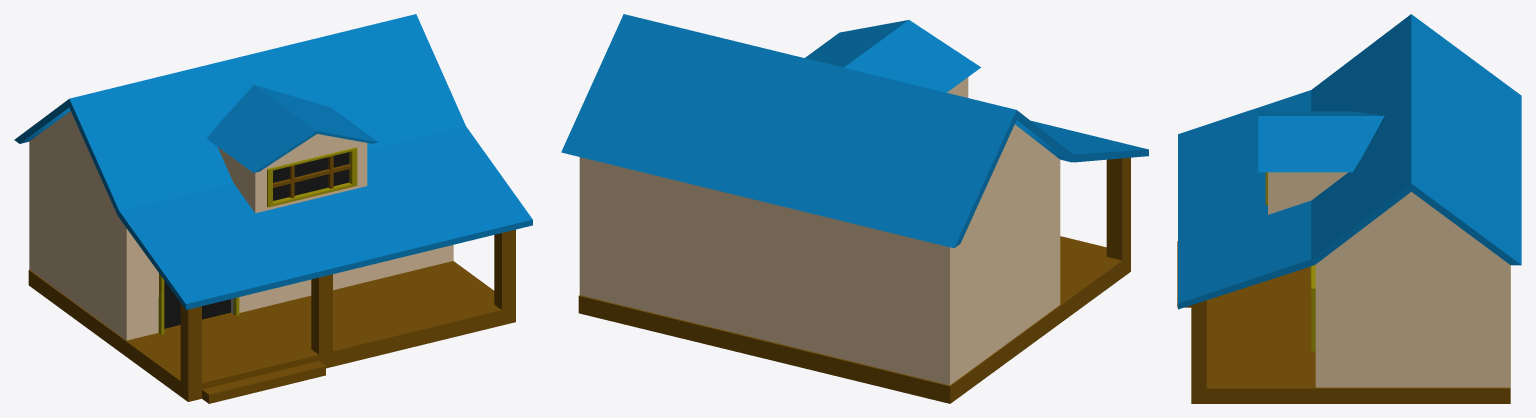
File: house_3.fbx
3 views of the same model, side by side, from view 1: azimuth 30°, elevation 25°; view 2: azimuth 150°, elevation 25°; view 3: azimuth 270°, elevation 25° (orthographic). The views are drawn at different scales.
Parts seen in each view (by area): view 1: House_will1_pCube163; view 2: House_will1_pCube163; view 3: House_will1_pCube163.
Part boxes in pixels (<box>): House_will1_pCube163: <box>14,14,532,403</box>; House_will1_pCube163: <box>561,14,1148,403</box>; House_will1_pCube163: <box>1177,14,1521,403</box>.
Size of the model in its own units: 21.7 by 13.47 by 18.65.
